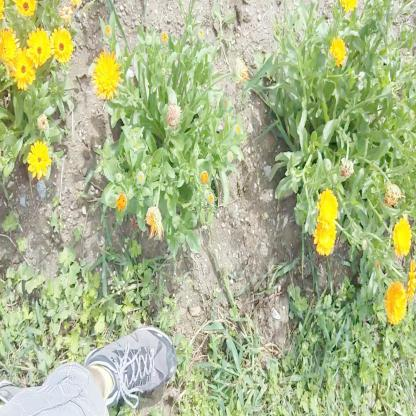marigold: (91, 51, 120, 98), (25, 139, 51, 180), (384, 281, 406, 325), (49, 25, 74, 63), (0, 24, 20, 71), (392, 217, 412, 258), (26, 29, 49, 64), (317, 188, 338, 226), (11, 54, 33, 90), (316, 216, 336, 253), (328, 34, 348, 66), (13, 0, 38, 18), (406, 258, 416, 302)
